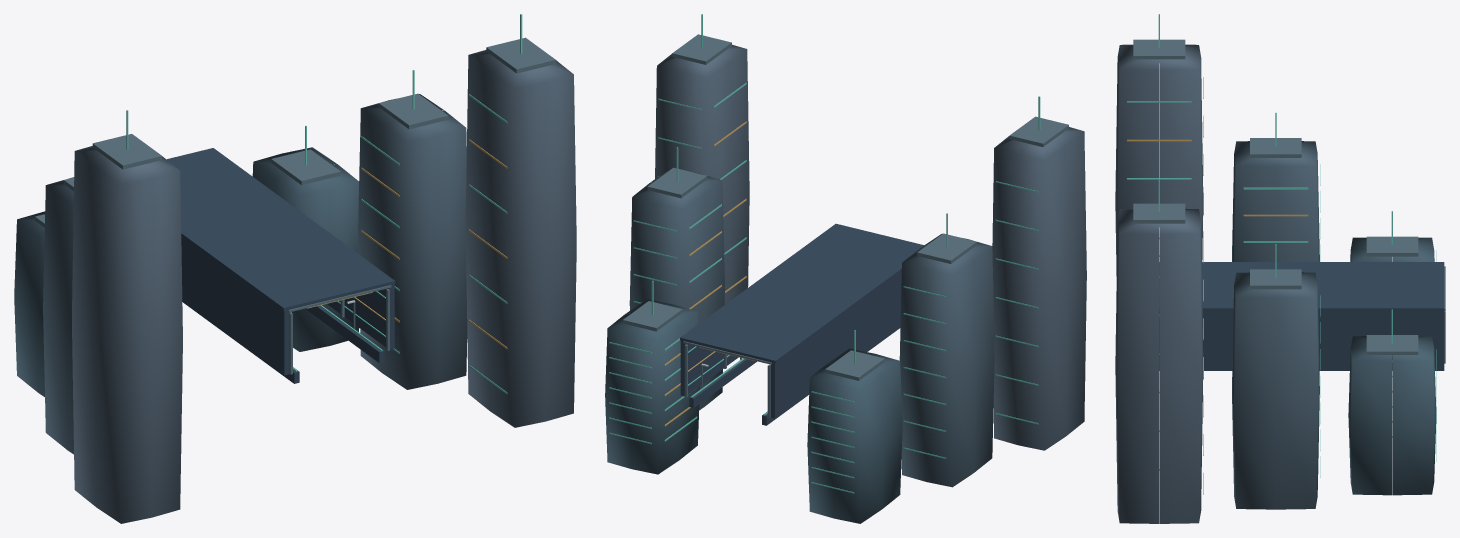
The model's file is tunnel.glb.
The picture shows the model from 3 angles, left to right: view 1: azimuth 30°, elevation 25°; view 2: azimuth 150°, elevation 25°; view 3: azimuth 270°, elevation 25°; orthographic projection. The views are drawn at different scales.
Parts seen in each view (by area): view 1: tunnel; view 2: tunnel; view 3: tunnel.
Part boxes in pixels (<box>): tunnel: <box>14,14,576,523</box>; tunnel: <box>605,14,1086,523</box>; tunnel: <box>1115,14,1445,523</box>.
Bounding box in the file's own units: 35 × 29 × 25.51.
